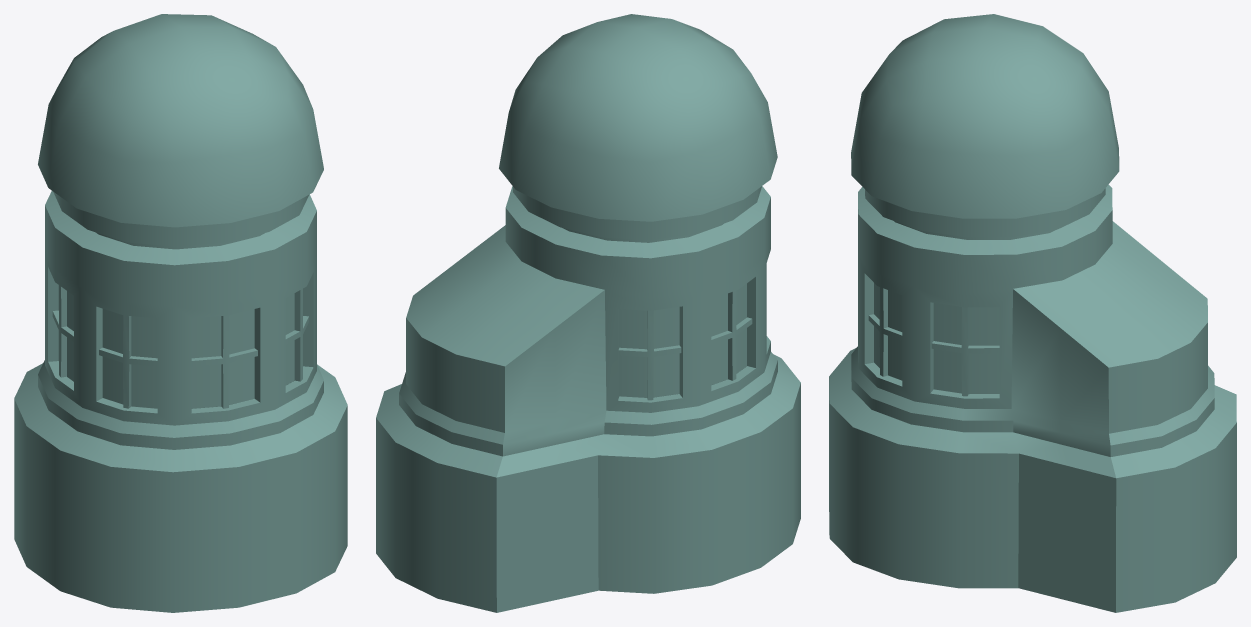
Rendered from building 15.fbx.
The picture shows the model from 3 angles, left to right: view 1: azimuth 30°, elevation 25°; view 2: azimuth 150°, elevation 25°; view 3: azimuth 270°, elevation 25°; orthographic projection. The views are drawn at different scales.
Visible parts, largest first — view 1: building 15; view 2: building 15; view 3: building 15.
Part boxes in pixels (<box>): building 15: <box>14,14,347,612</box>; building 15: <box>376,14,800,612</box>; building 15: <box>829,14,1236,612</box>.
Bounding box in the file's own units: 2639 × 3870 × 2890.
